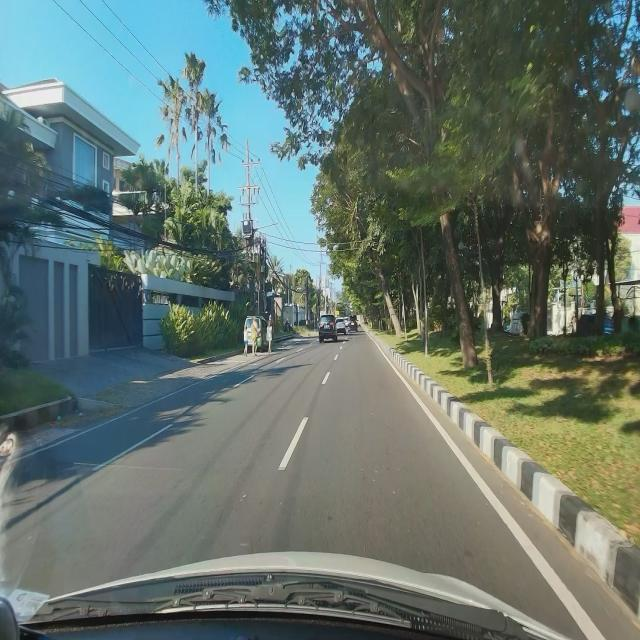car: (318, 314, 338, 344)
